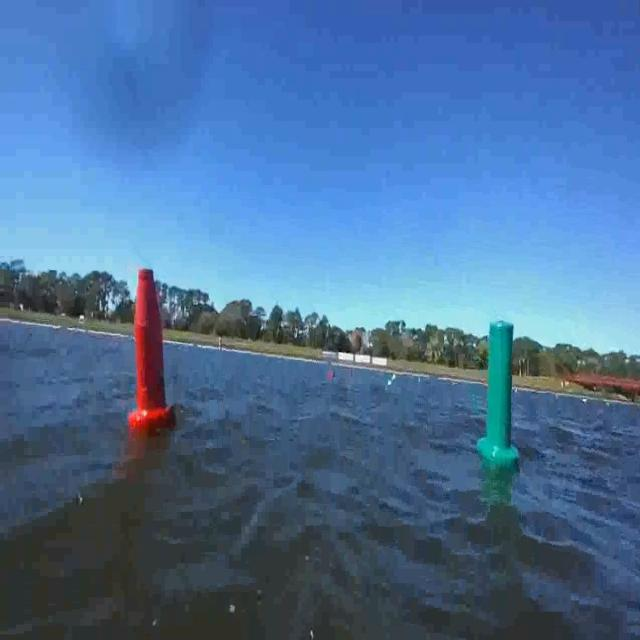green-column-buoy: (478, 319, 518, 469)
red-column-buoy: (130, 264, 177, 432)
